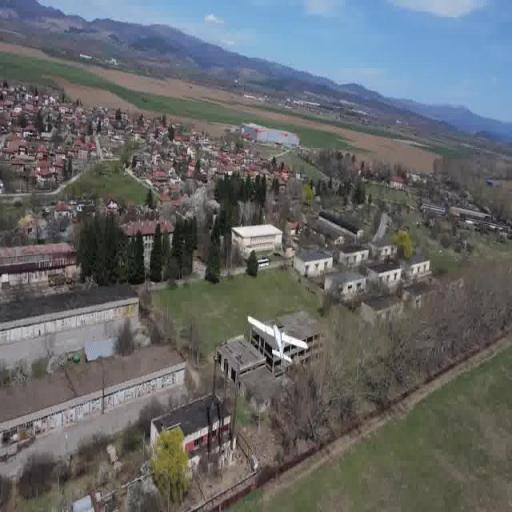uav: (245, 310, 311, 372)
